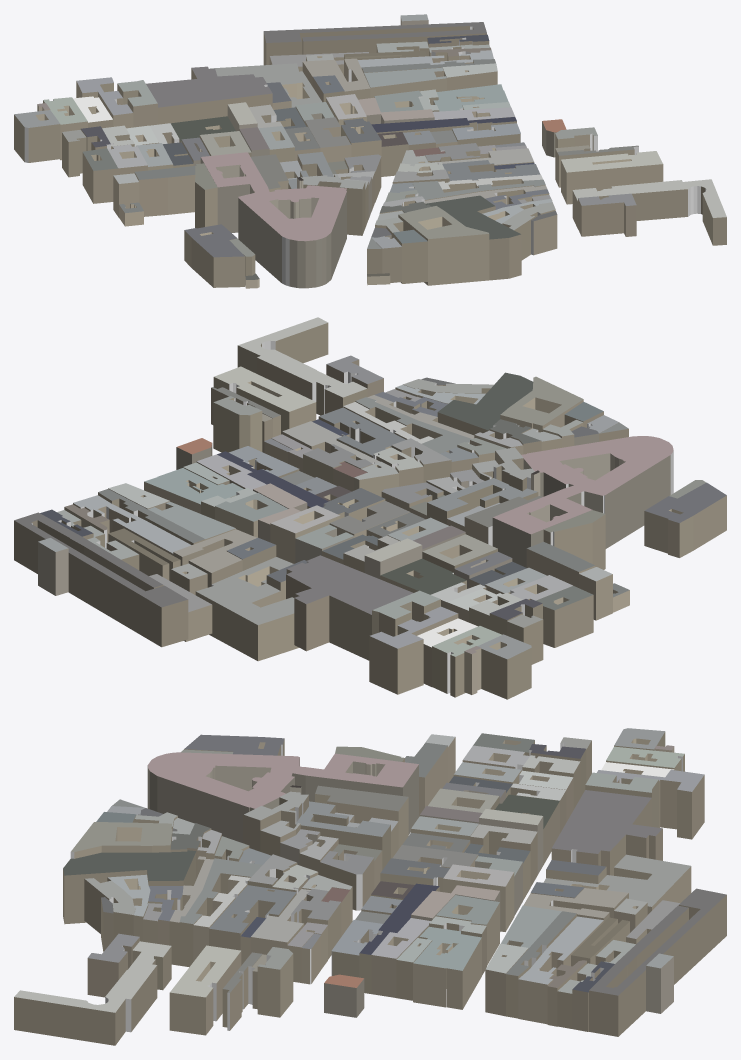
3 renders of one model, top to bottom at view 1: azimuth 30°, elevation 25°; view 2: azimuth 150°, elevation 25°; view 3: azimuth 270°, elevation 25°, orthographic. The views are drawn at different scales.
Parts seen in each view (by area): view 1: tuile; view 2: tuile; view 3: tuile.
Boxes of the visible parts, <box> form: tuile: <box>14,14,726,288</box>; tuile: <box>14,317,726,699</box>; tuile: <box>14,728,726,1045</box>.
Bounding box in the file's own units: 286 × 35.45 × 315.
